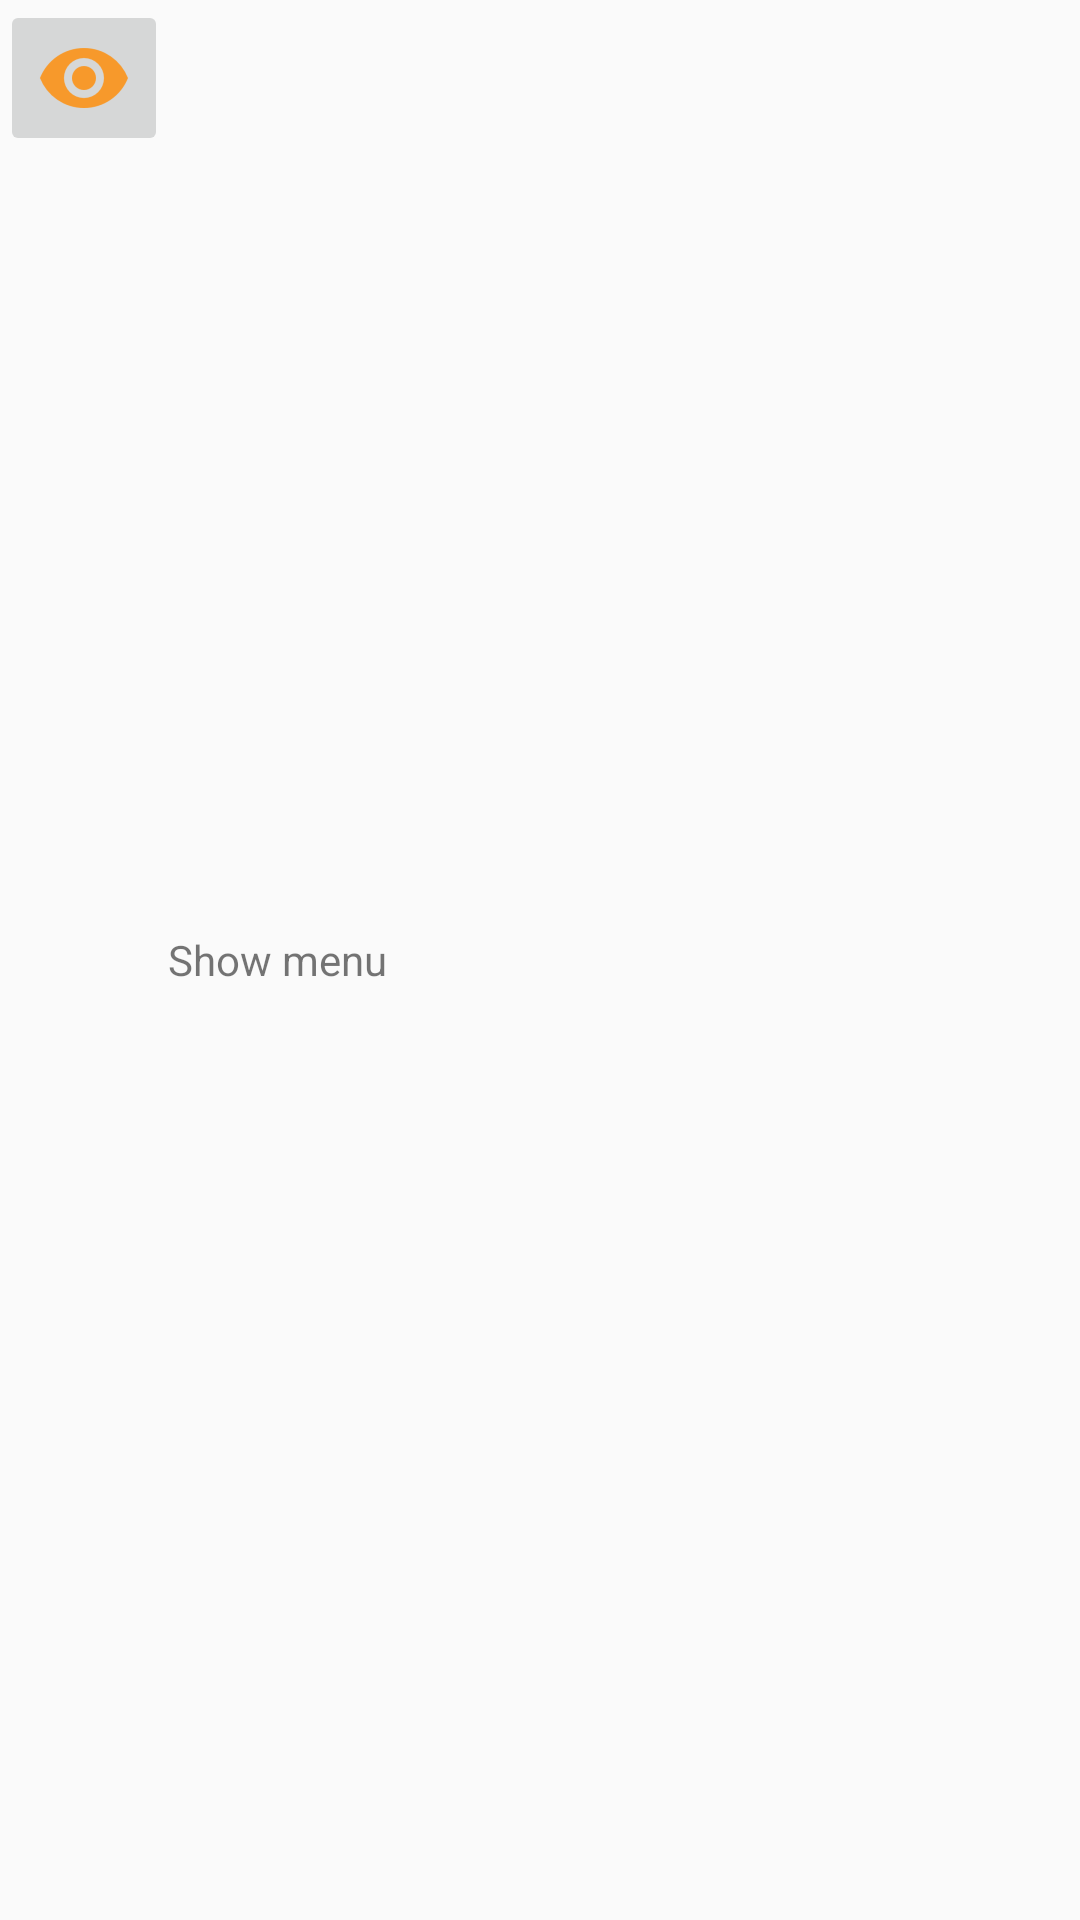

Where to tap for icons on this 1080 x 1920 app screen, as (x,y):
visibilityon: (84,78)
